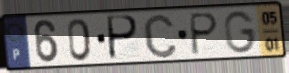0: (66, 17, 93, 62)
6: (33, 19, 60, 64)
C: (141, 12, 179, 60)
G: (222, 9, 258, 55)
P: (107, 14, 141, 62), (189, 11, 220, 57)
